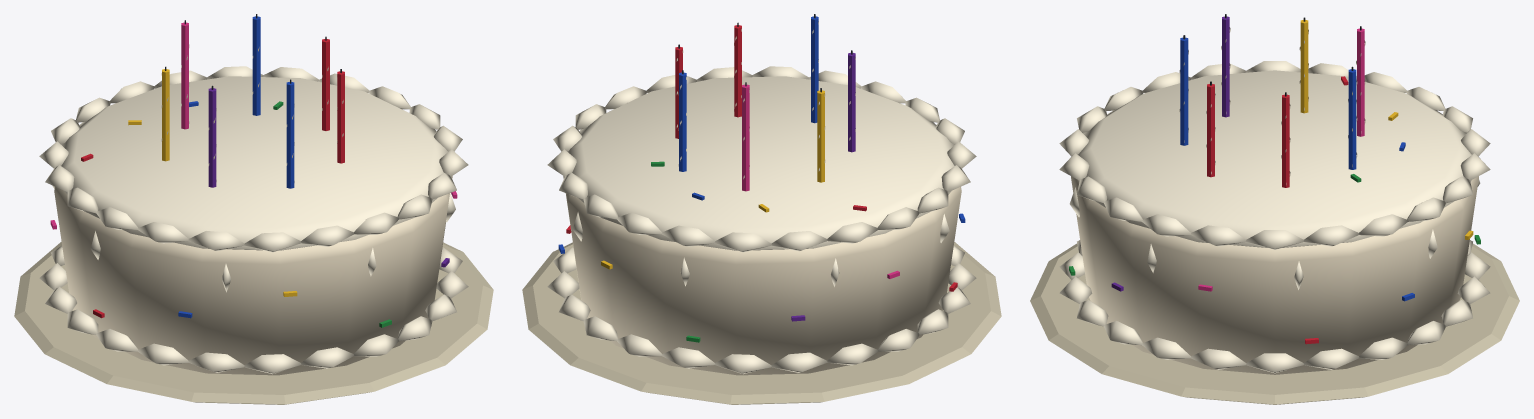
File: party_cake_unlit.glb
The picture shows the model from 3 angles, left to right: view 1: azimuth 30°, elevation 25°; view 2: azimuth 150°, elevation 25°; view 3: azimuth 270°, elevation 25°; orthographic projection.
Visible parts, largest first — view 1: party_cake_unlit_body; view 2: party_cake_unlit_body; view 3: party_cake_unlit_body.
Part boxes in pixels (box(x1,y1,x2,y2)): party_cake_unlit_body: box(14, 14, 493, 404); party_cake_unlit_body: box(522, 14, 1001, 404); party_cake_unlit_body: box(1030, 14, 1519, 404).
Size of the model in its own units: 0.36 by 0.218 by 0.36.
Materials: 2 (2 with a texture image).
